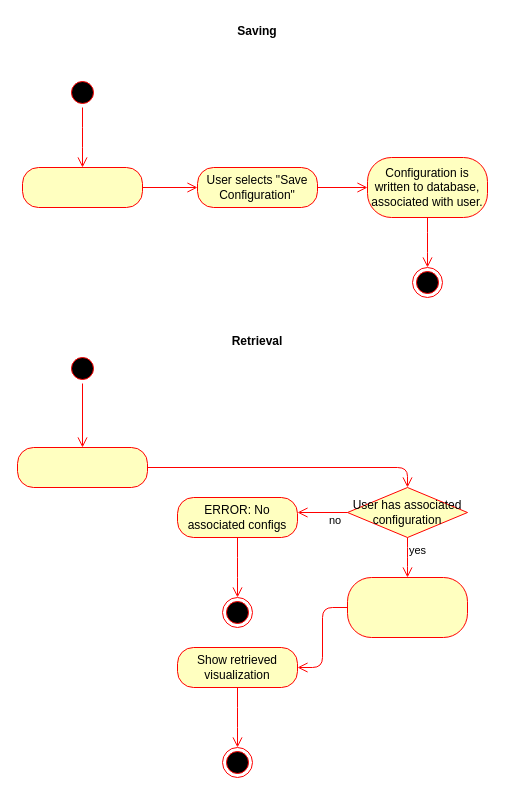
Image size: 505x795. Some labels were removed from this diagram. Here are the shapes that lost their labels. From the top down, the centre of each, then its label:
pixel 82 187: User creates a visualization.
pixel 82 467: User selects "My Saved Configurations"
pixel 407 607: Create new visualization using saved dataset and diagram type
